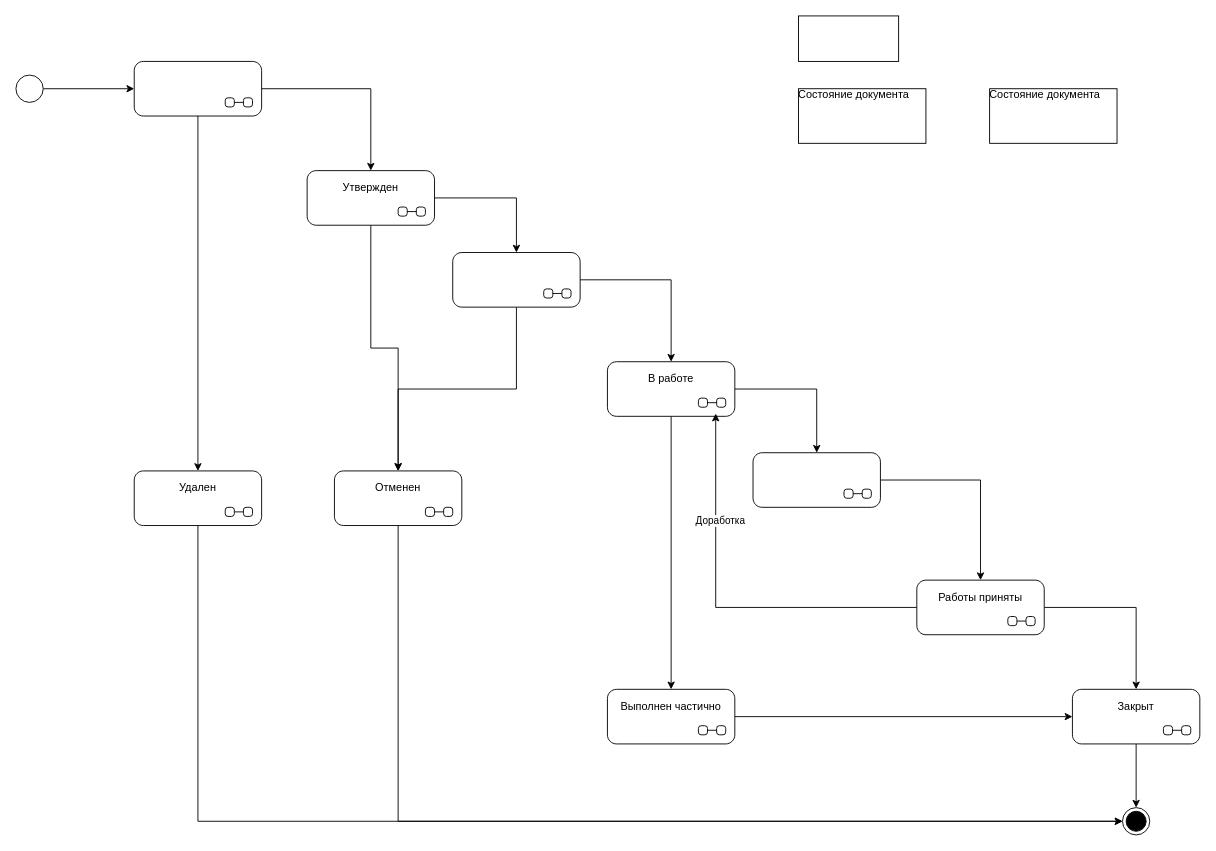
The diagram is 1216 pixels wide and 851 high, and some of its shapes have lost their labels. Each missing label, with the centre of its shape:
"Object" goes at pixel 848 38.
"Выполнен" goes at pixel 816 479.
"К исполнению" goes at pixel 516 279.
"Новый" goes at pixel 197 88.
